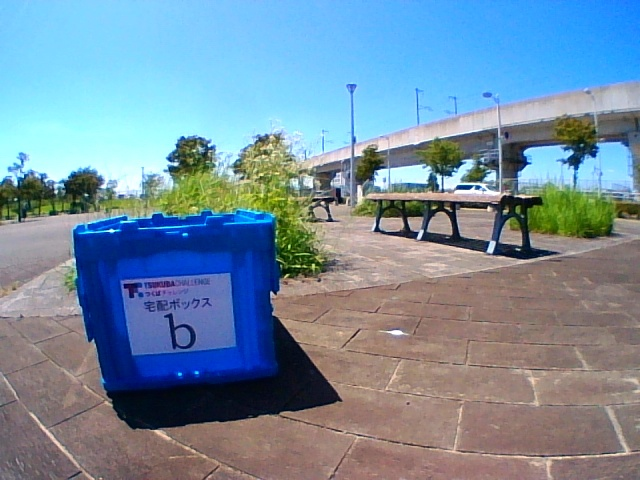blue_box: (105, 221, 273, 373)
tag_b: (142, 282, 228, 349)
